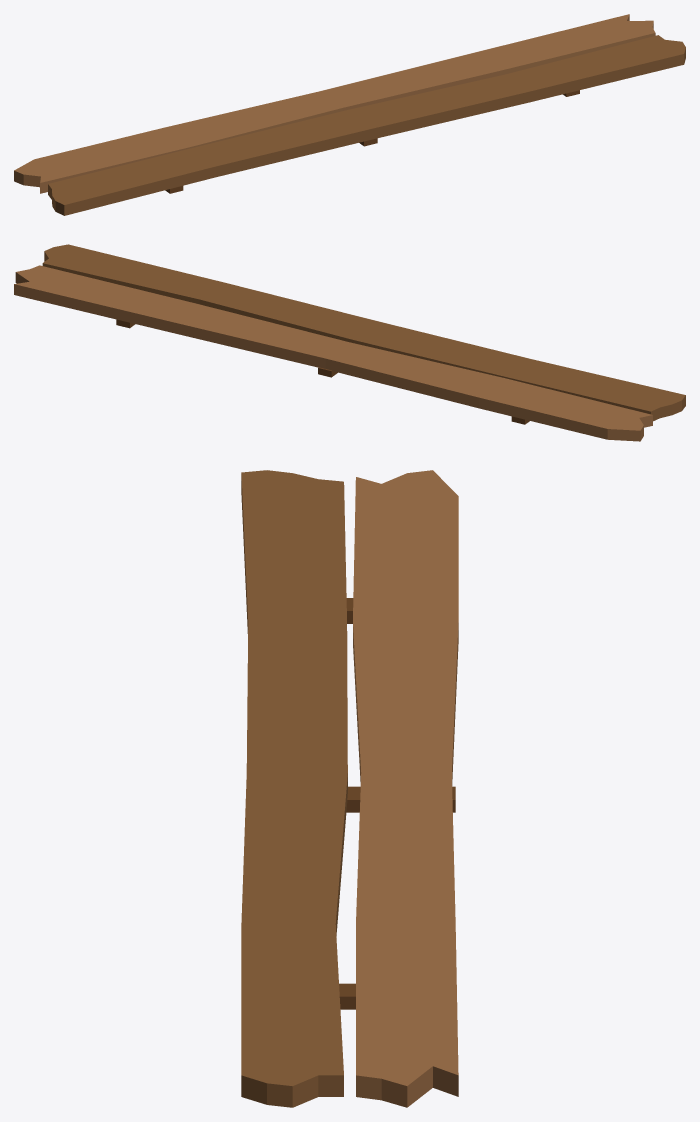
The model's file is WoodenPlank_04.fbx.
3 renders of one model, top to bottom at view 1: azimuth 30°, elevation 25°; view 2: azimuth 150°, elevation 25°; view 3: azimuth 270°, elevation 25°, orthographic. The views are drawn at different scales.
Parts seen in each view (by area): view 1: WoodenPlank_04; view 2: WoodenPlank_04; view 3: WoodenPlank_04.
Part boxes in pixels (left/top/right/bottom): WoodenPlank_04: left=14, top=14, right=685, bottom=215; WoodenPlank_04: left=14, top=244, right=685, bottom=441; WoodenPlank_04: left=241, top=470, right=458, bottom=1107.
Size of the model in its own units: 313 by 7.91 by 46.65.
